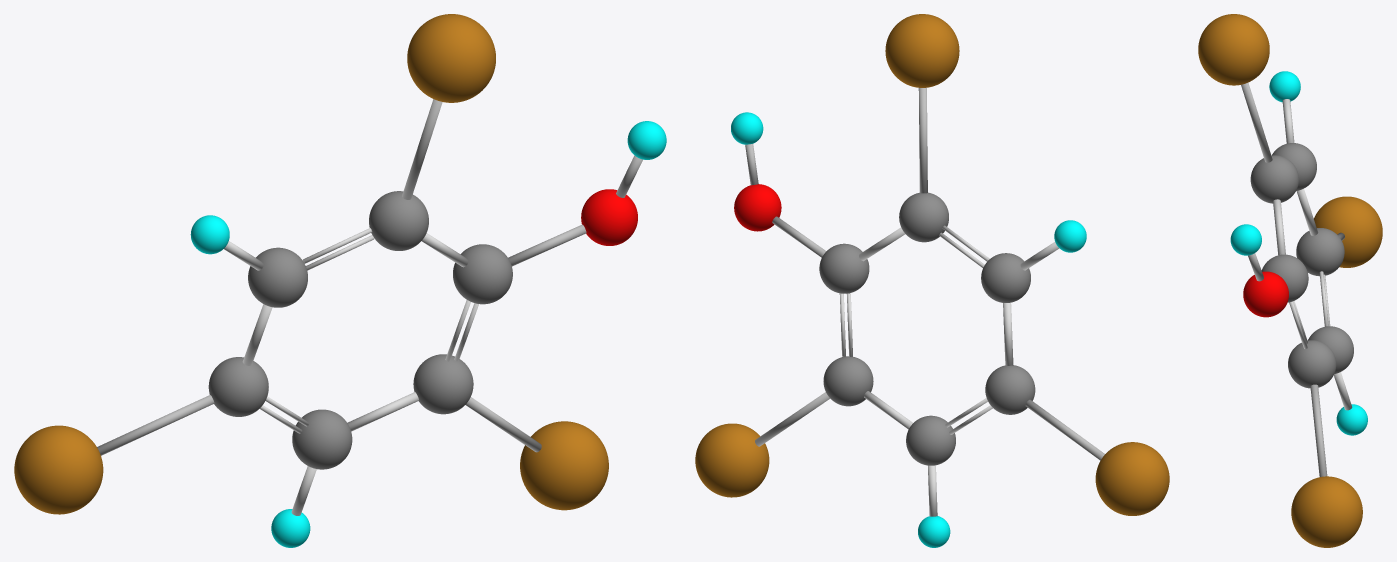
Rendered from 2,4,6-tribromophenol.glb.
The picture shows the model from 3 angles, left to right: view 1: azimuth 30°, elevation 25°; view 2: azimuth 150°, elevation 25°; view 3: azimuth 270°, elevation 25°; orthographic projection. The views are drawn at different scales.
Visible parts, largest first — view 1: CMAtom_0; view 2: CMAtom_0; view 3: CMAtom_0.
Boxes of the visible parts, x1,y1,x2,y2 form: CMAtom_0: (14, 14, 666, 547); CMAtom_0: (695, 14, 1169, 547); CMAtom_0: (1198, 14, 1382, 547).
Bounding box in the file's own units: 0.6879 × 0.6469 × 0.2351.
